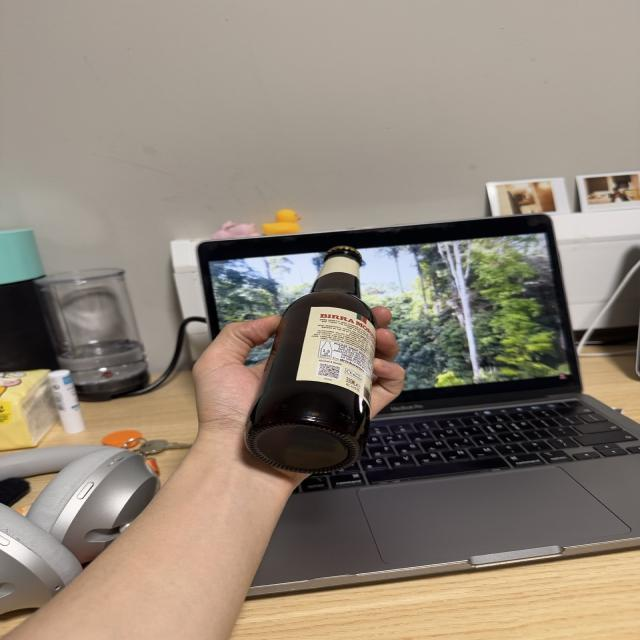beer: (237, 242, 382, 476)
